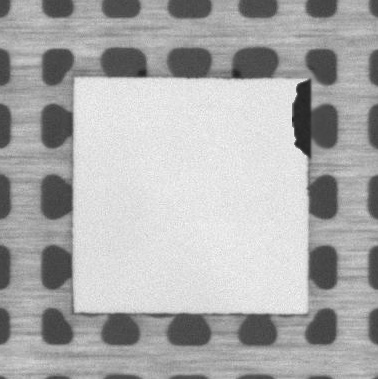DIE_BROKEN: (291, 77, 313, 159)
